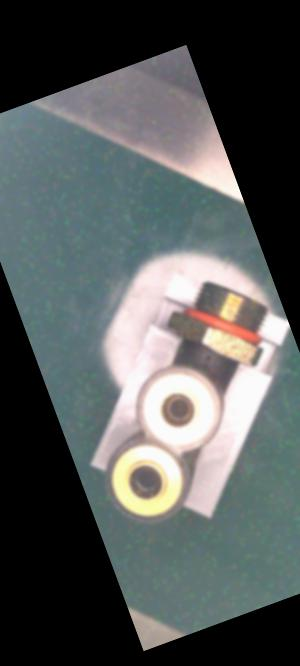craze: (200, 348, 219, 371)
